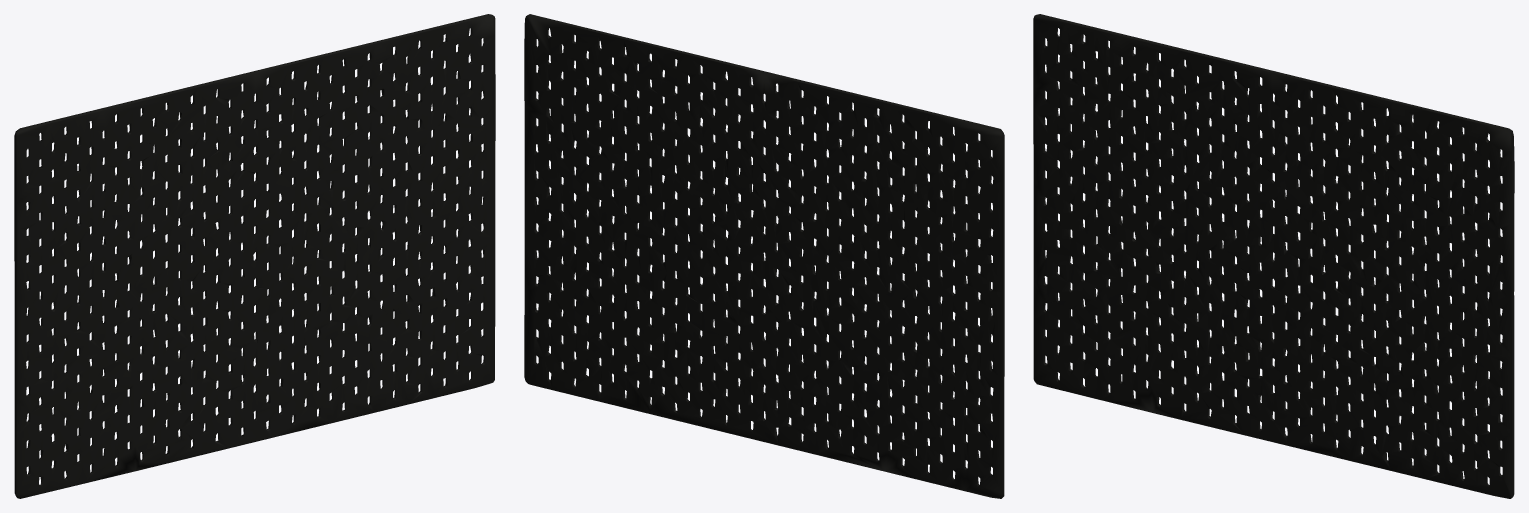
Rendered from SK_DIS_50534378.glb.
3 renders of one model, left to right at view 1: azimuth 30°, elevation 25°; view 2: azimuth 150°, elevation 25°; view 3: azimuth 330°, elevation 25°, orthographic.
Parts seen in each view (by area): view 1: ProcessedMeshNode; view 2: ProcessedMeshNode; view 3: ProcessedMeshNode.
Boxes of the visible parts, <box> form: ProcessedMeshNode: <box>14,14,495,498</box>; ProcessedMeshNode: <box>524,14,1004,498</box>; ProcessedMeshNode: <box>1033,14,1514,498</box>.
Bounding box in the file's own units: 0.7604 × 0.56 × 0.00594.
Materials: 1 (1 with a texture image).
